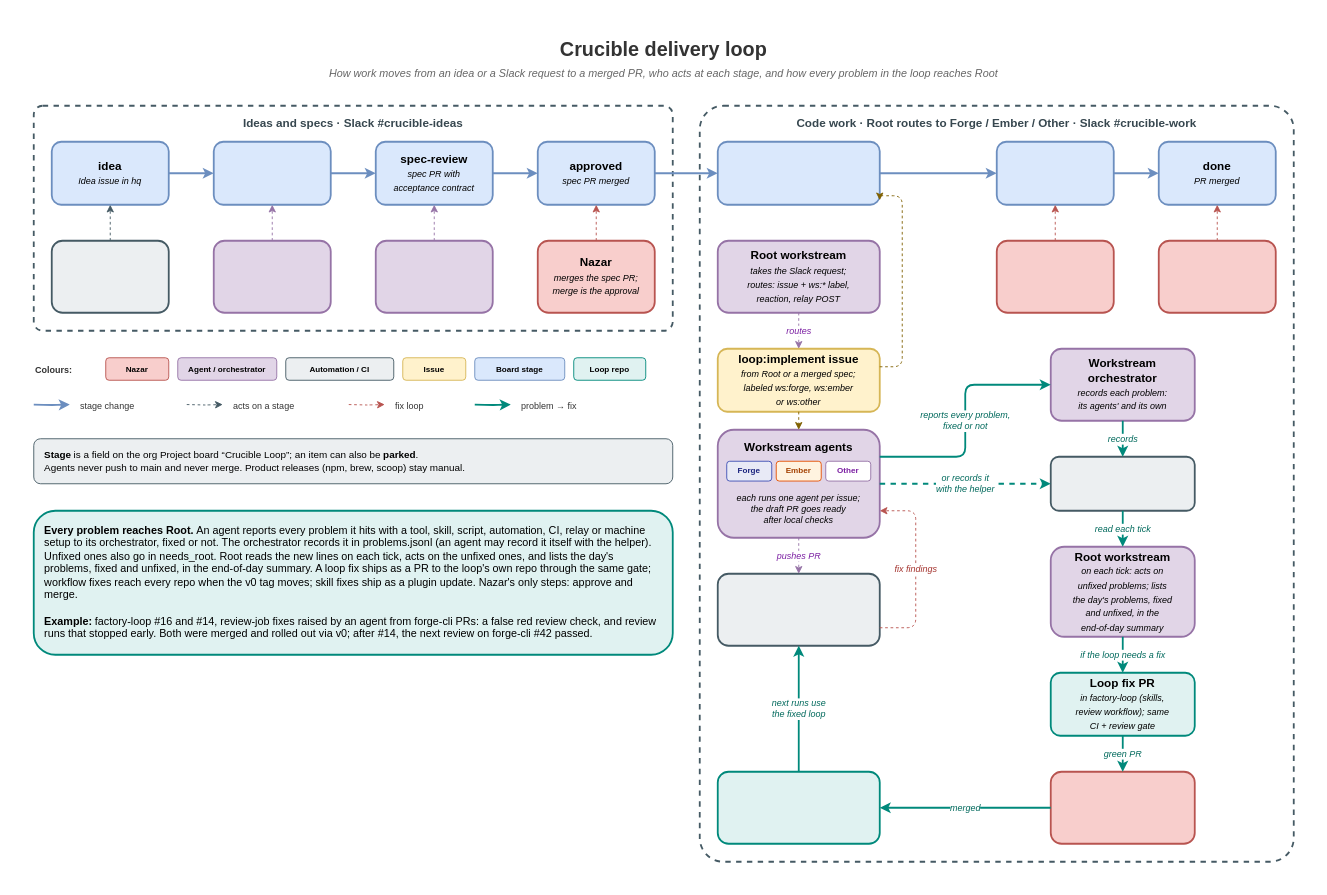
Some shapes in this 1327 by 895 pixel diagram are drawn without their labels. The shapes that lost their labels are listed below. From the top down, each one's box as (x1, y1, x2, y2) in pixels, then its label:
(212, 140, 331, 205): discovery short preview brief
(716, 140, 880, 205): implementing PR open, agent owns it
(995, 140, 1114, 205): ready CI + review gate green
(50, 239, 169, 313): Idea intake automation from Slack #crucible-ideas
(212, 239, 331, 313): Discovery agent research, questions, “complete, don't compete” check
(374, 239, 493, 313): Agent + droids agent writes the spec; reviewer droids review it
(995, 239, 1114, 313): Nazar final review
(1157, 239, 1276, 313): Nazar merges the PR
(1049, 455, 1195, 511): problems.jsonl one line per problem; the helper appends it
(716, 572, 880, 646): CI + review gate GitHub Actions; red while P0/P1 open
(716, 770, 880, 844): v0 tag moves repos on @v0 get the workflow fix
(1049, 770, 1195, 844): Nazar approves and merges the loop fix
